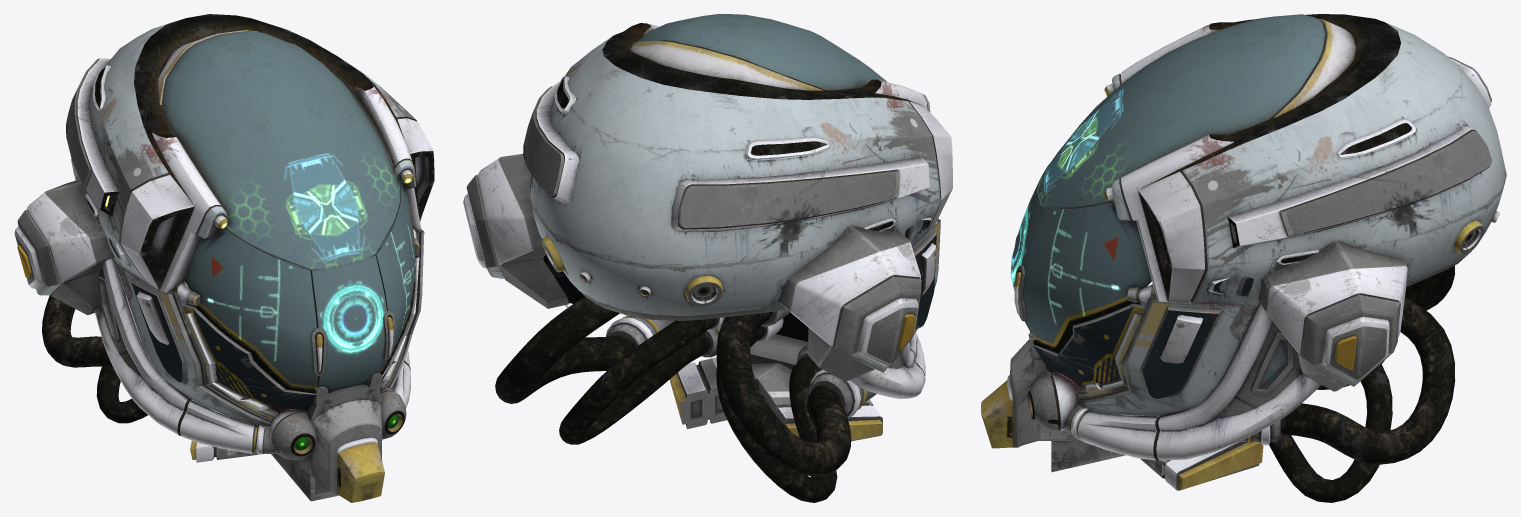
Rendered from DamagedHelmet_MeshOpt.glb.
The picture shows the model from 3 angles, left to right: view 1: azimuth 30°, elevation 25°; view 2: azimuth 150°, elevation 25°; view 3: azimuth 270°, elevation 25°; orthographic projection. The views are drawn at different scales.
Visible parts, largest first — view 1: node_damagedHelmet_-6514; view 2: node_damagedHelmet_-6514; view 3: node_damagedHelmet_-6514.
Boxes of the visible parts, <box> form: node_damagedHelmet_-6514: <box>14,14,434,502</box>; node_damagedHelmet_-6514: <box>463,14,952,502</box>; node_damagedHelmet_-6514: <box>981,14,1506,502</box>.
Bounding box in the file's own units: 1.89 × 1.8 × 2.
1 material, 1 textured.
